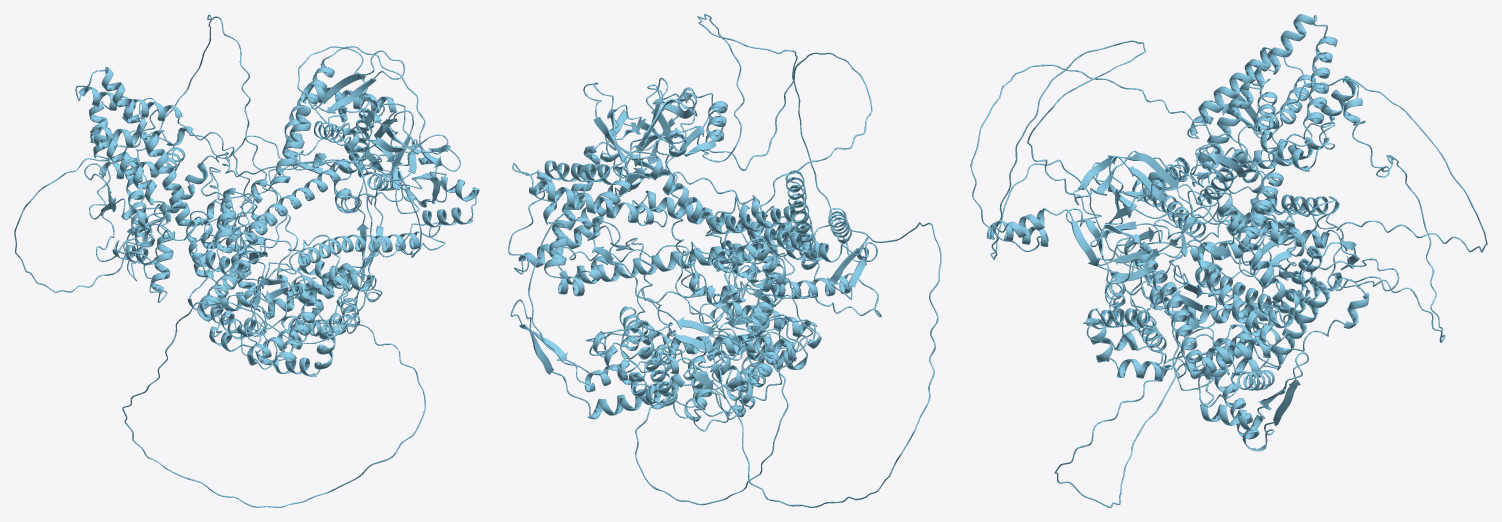
3 views of the same model, side by side, from view 1: azimuth 30°, elevation 25°; view 2: azimuth 150°, elevation 25°; view 3: azimuth 270°, elevation 25° (orthographic). The views are drawn at different scales.
Size of the model in its own units: 108 by 137 by 134.
